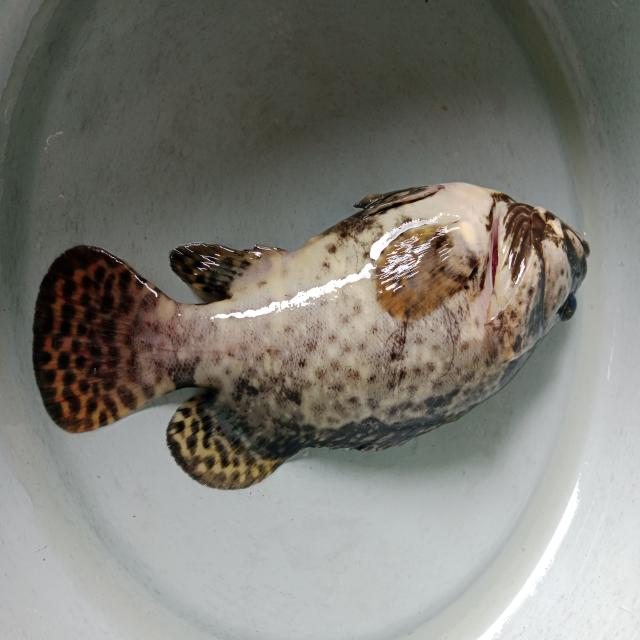ikan: (32, 179, 590, 492)
